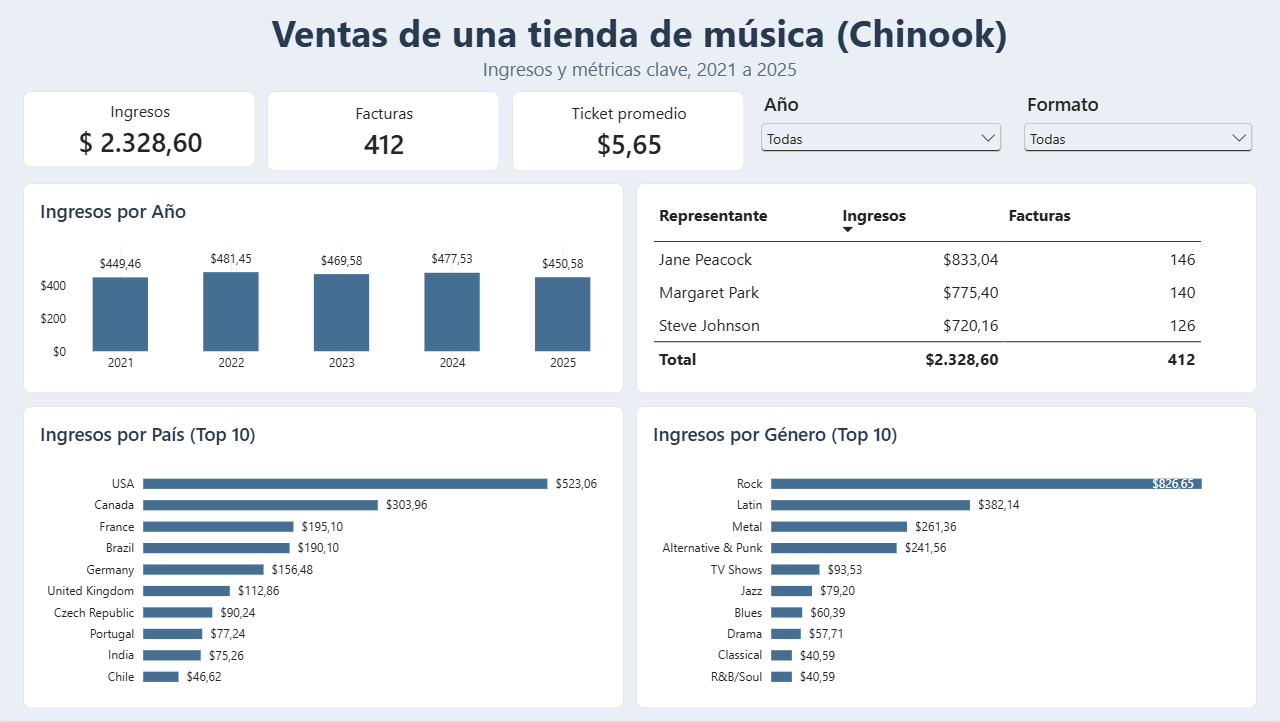

Layout of this report page (visuals, bound fields, positions):
{"tool":"powerbi","page":{"name":"Página 1","canvas":[1280,720],"ordinal":0},"visuals":[{"type":"cardVisual","fields":{"Data":["Ventas.Ingresos"]},"box":[24,92,232,76],"z":0},{"type":"cardVisual","fields":{"Data":["Ventas.Facturas"]},"box":[268,92,232,80],"z":1000},{"type":"cardVisual","fields":{"Data":["Ventas.Ticket promedio"]},"box":[512,92,232,80],"z":2000},{"type":"clusteredBarChart","title":"Ingresos por País (Top 10)","fields":{"Category":["Ventas.Pais"],"Y":["Ventas.Ingresos"]},"box":[24,406.4,600.1,301.5],"z":3000},{"type":"clusteredBarChart","title":"Ingresos por Género (Top 10)","fields":{"Category":["Ventas.Genero"],"Y":["Ventas.Ingresos"]},"box":[636,406.4,620,301.5],"z":4000},{"type":"tableEx","title":"Ingresos y Facturas por Representante","fields":{"Values":["Ventas.Representante","Ventas.Ingresos","Ventas.Facturas"]},"box":[636,184,620,210],"z":5000},{"type":"slicer","fields":{"Values":["Calendario.Año"]},"box":[756,92,250,80],"z":6000},{"type":"slicer","fields":{"Values":["Ventas.Formato"]},"box":[1018,92,238,80],"z":7000},{"type":"textbox","box":[24,8,1232,76],"z":8000},{"type":"clusteredColumnChart","title":"Ingresos por Año","fields":{"Category":["Calendario.Año"],"Y":["Ventas.Ingresos"]},"box":[24,184,600,210],"z":9000}]}

Visuals, with their boxes in screenshot pixels (x1, y1, x2, y2), scaled from the page's 1280x720 canvas onto the 1280x722 screenshot:
cardVisual - Ventas.Ingresos: 24, 92, 256, 168
cardVisual - Ventas.Facturas: 268, 92, 500, 172
cardVisual - Ventas.Ticket promedio: 512, 92, 744, 172
"Ingresos por País (Top 10)" clusteredBarChart: 24, 408, 624, 710
"Ingresos por Género (Top 10)" clusteredBarChart: 636, 408, 1256, 710
"Ingresos y Facturas por Representante" tableEx: 636, 185, 1256, 395
slicer - Calendario.Año: 756, 92, 1006, 172
slicer - Ventas.Formato: 1018, 92, 1256, 172
textbox: 24, 8, 1256, 84
"Ingresos por Año" clusteredColumnChart: 24, 185, 624, 395
